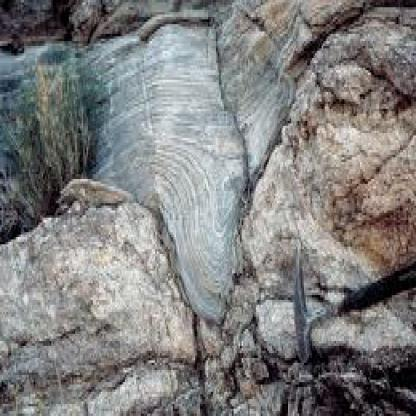Metamorphic_Quartize: (224, 55, 415, 349), (88, 5, 253, 331), (2, 167, 200, 413), (2, 36, 107, 247)
